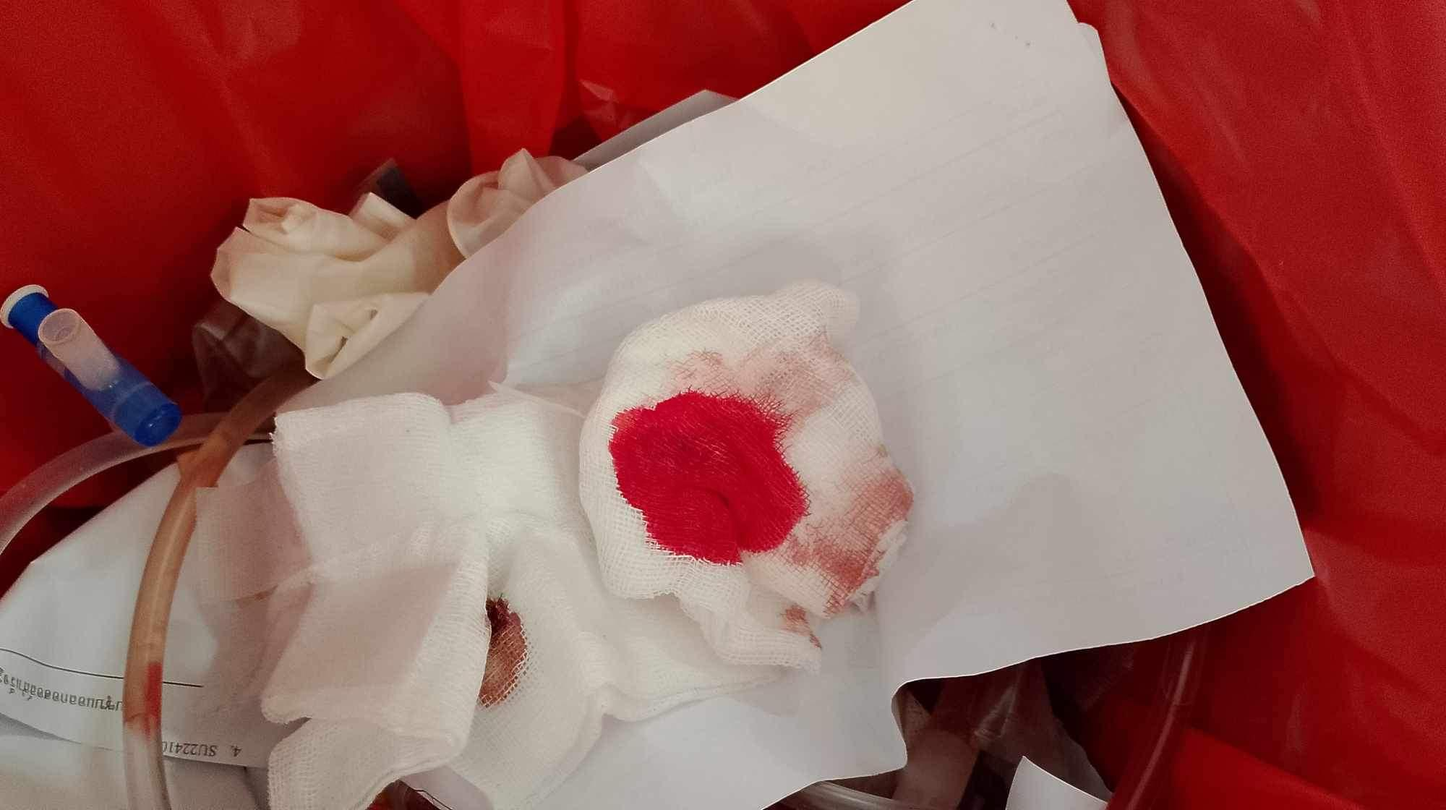Infectious: (575, 277, 915, 673)
Pathological: (4, 3, 1316, 806)
Sharps: (1, 281, 183, 450)
